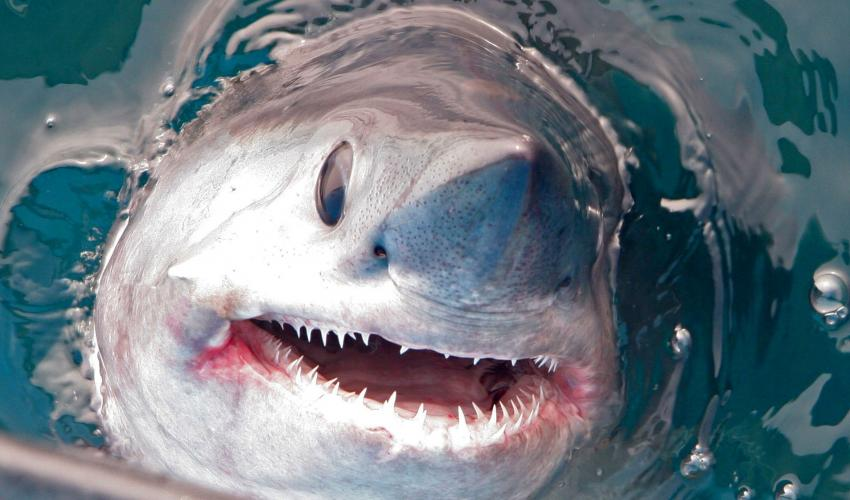shark: (54, 15, 651, 494)
